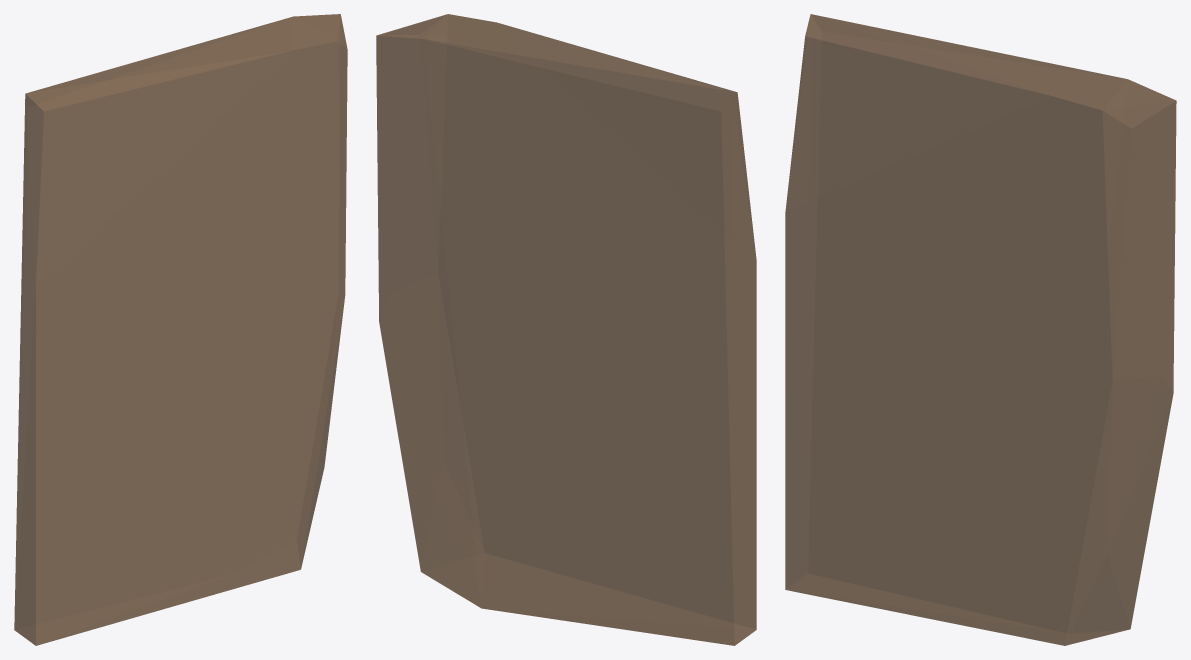
The picture shows the model from 3 angles, left to right: view 1: azimuth 30°, elevation 25°; view 2: azimuth 150°, elevation 25°; view 3: azimuth 330°, elevation 25°; orthographic projection. The views are drawn at different scales.
Visible parts, largest first — view 1: Shape_IndexedFaceSet.021_Shape_IndexedFaceSet.7507; view 2: Shape_IndexedFaceSet.021_Shape_IndexedFaceSet.7507; view 3: Shape_IndexedFaceSet.021_Shape_IndexedFaceSet.7507.
Boxes of the visible parts, bbox=[...] form: Shape_IndexedFaceSet.021_Shape_IndexedFaceSet.7507: bbox=[14, 14, 347, 645]; Shape_IndexedFaceSet.021_Shape_IndexedFaceSet.7507: bbox=[376, 14, 756, 645]; Shape_IndexedFaceSet.021_Shape_IndexedFaceSet.7507: bbox=[785, 14, 1176, 645].
Bounding box in the file's own units: 0.3342 × 0.517 × 0.0602.
